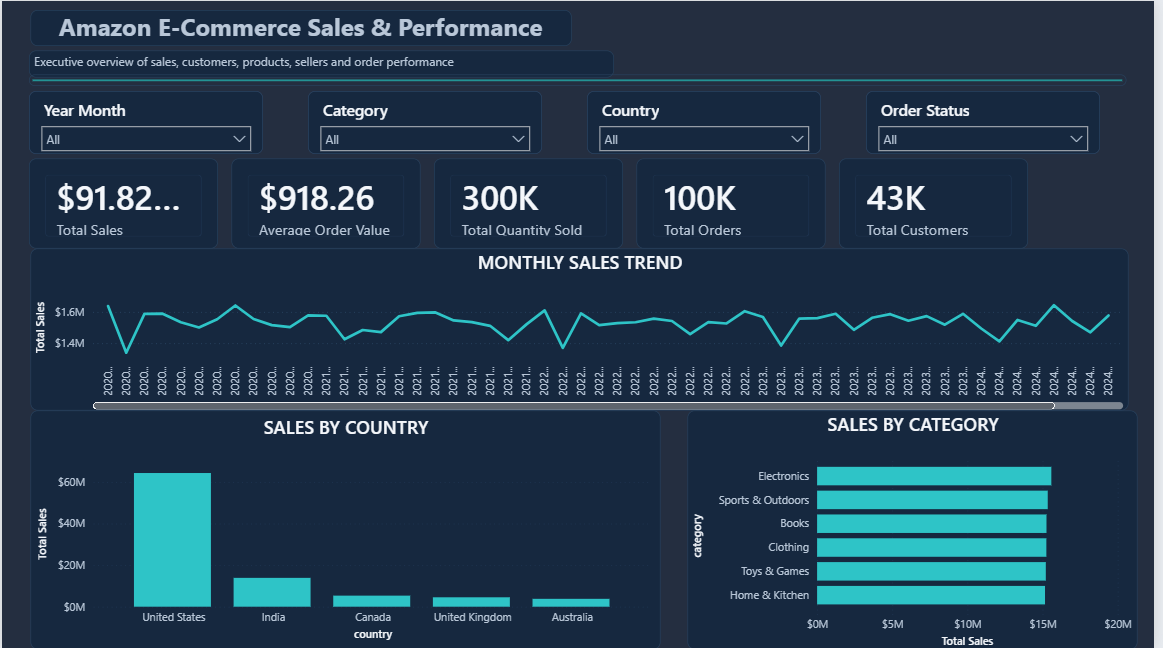

The dashboard page shown, as its layout file describes it:
{"tool":"powerbi","page":{"name":"Executive Overview","canvas":[1280,720],"ordinal":0},"visuals":[{"type":"textbox","box":[31.1,10,601.1,40],"z":0},{"type":"textbox","box":[30,55,650,30],"z":1000},{"type":"shape","box":[30.8,82,1219.3,13],"z":2000},{"type":"slicer","fields":{"Values":["ecommerce amazon_sales.category"]},"box":[340,100,260,70],"z":3000},{"type":"slicer","fields":{"Values":["ecommerce amazon_sales.country"]},"box":[650,100,260,70],"z":4000},{"type":"slicer","fields":{"Values":["ecommerce amazon_sales.order_status"]},"box":[960,100,260,70],"z":5000},{"type":"slicer","fields":{"Values":["DateTable.Year Month"]},"box":[30,100,260,70],"z":6000},{"type":"cardVisual","fields":{"Data":["ecommerce amazon_sales.Total Sales"]},"box":[30,175,210,100],"z":7000},{"type":"cardVisual","fields":{"Data":["ecommerce amazon_sales.Total Orders"]},"box":[705,175,210,100],"z":8000},{"type":"cardVisual","fields":{"Data":["ecommerce amazon_sales.Average Order Value"]},"box":[255,175,210,100],"z":9000},{"type":"cardVisual","fields":{"Data":["ecommerce amazon_sales.Total Customers"]},"box":[930,175,210,100],"z":10000},{"type":"cardVisual","fields":{"Data":["Sum(ecommerce amazon_sales.quantity)"]},"box":[480,175,210,100],"z":11000},{"type":"lineChart","title":"MONTHLY SALES TREND ","fields":{"Y":["ecommerce amazon_sales.Total Sales"],"Category":["DateTable.Year Month"]},"box":[31.7,275,1220,180],"z":12000},{"type":"clusteredBarChart","title":"SALES BY CATEGORY","fields":{"Category":["ecommerce amazon_sales.category"],"Y":["ecommerce amazon_sales.Total Sales"]},"box":[761.7,455,500,265],"z":13000},{"type":"clusteredColumnChart","title":"SALES BY COUNTRY","fields":{"Category":["ecommerce amazon_sales.country"],"Y":["ecommerce amazon_sales.Total Sales"]},"box":[31.7,455,700,265],"z":14000}]}

Visuals, with their boxes in screenshot pixels (x1, y1, x2, y2), scaled from the page's 1280x720 canvas onto the 1163x648 screenshot:
textbox: box=[28, 9, 574, 45]
textbox: box=[27, 50, 618, 76]
shape: box=[28, 74, 1136, 86]
slicer - ecommerce amazon_sales.category: box=[309, 90, 545, 153]
slicer - ecommerce amazon_sales.country: box=[591, 90, 827, 153]
slicer - ecommerce amazon_sales.order_status: box=[872, 90, 1108, 153]
slicer - DateTable.Year Month: box=[27, 90, 263, 153]
cardVisual - ecommerce amazon_sales.Total Sales: box=[27, 158, 218, 248]
cardVisual - ecommerce amazon_sales.Total Orders: box=[641, 158, 831, 248]
cardVisual - ecommerce amazon_sales.Average Order Value: box=[232, 158, 422, 248]
cardVisual - ecommerce amazon_sales.Total Customers: box=[845, 158, 1036, 248]
cardVisual - Sum(ecommerce amazon_sales.quantity): box=[436, 158, 627, 248]
"MONTHLY SALES TREND " lineChart: box=[29, 248, 1137, 410]
"SALES BY CATEGORY" clusteredBarChart: box=[692, 410, 1146, 647]
"SALES BY COUNTRY" clusteredColumnChart: box=[29, 410, 665, 647]
